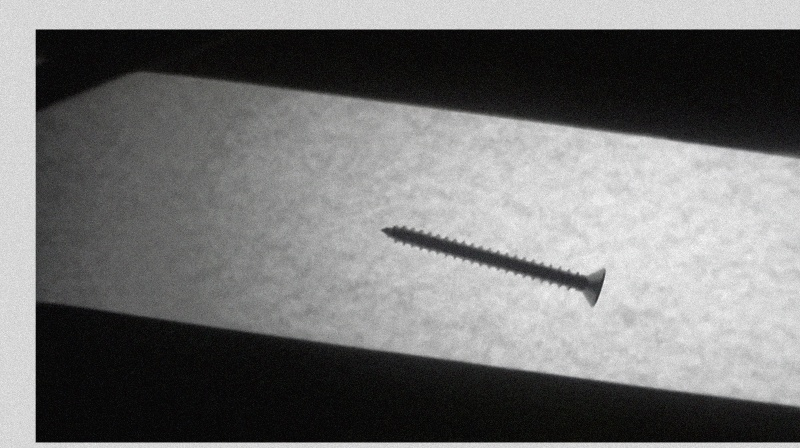S002: (375, 223, 609, 311)
